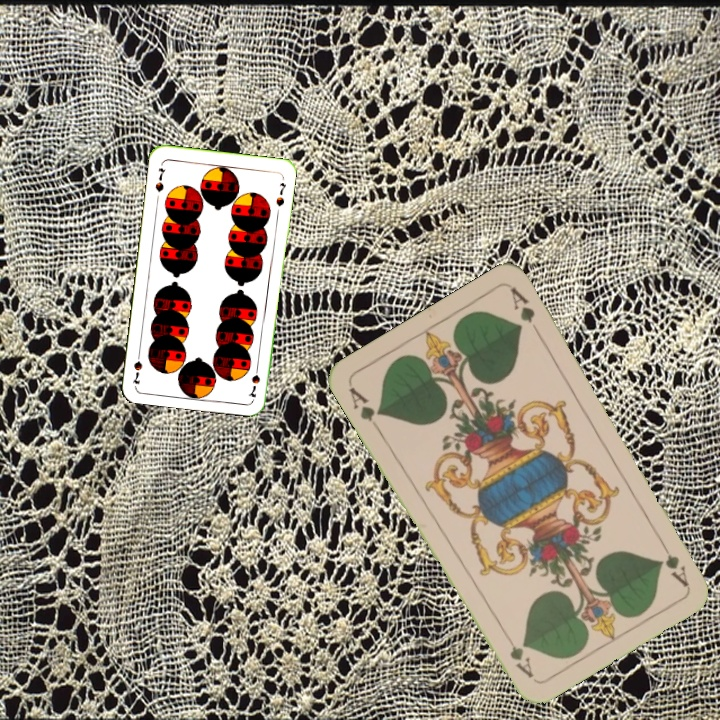GA: (344, 383, 385, 435), (655, 534, 691, 589)
S7: (245, 360, 263, 400), (151, 164, 168, 194)
